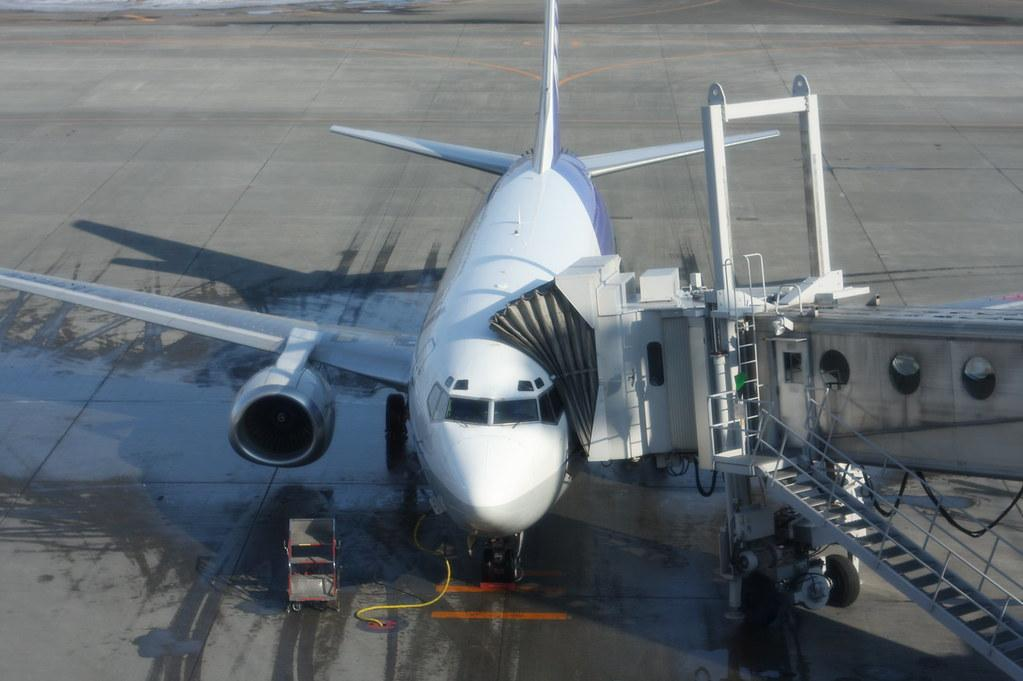plane: (4, 1, 1023, 681)
